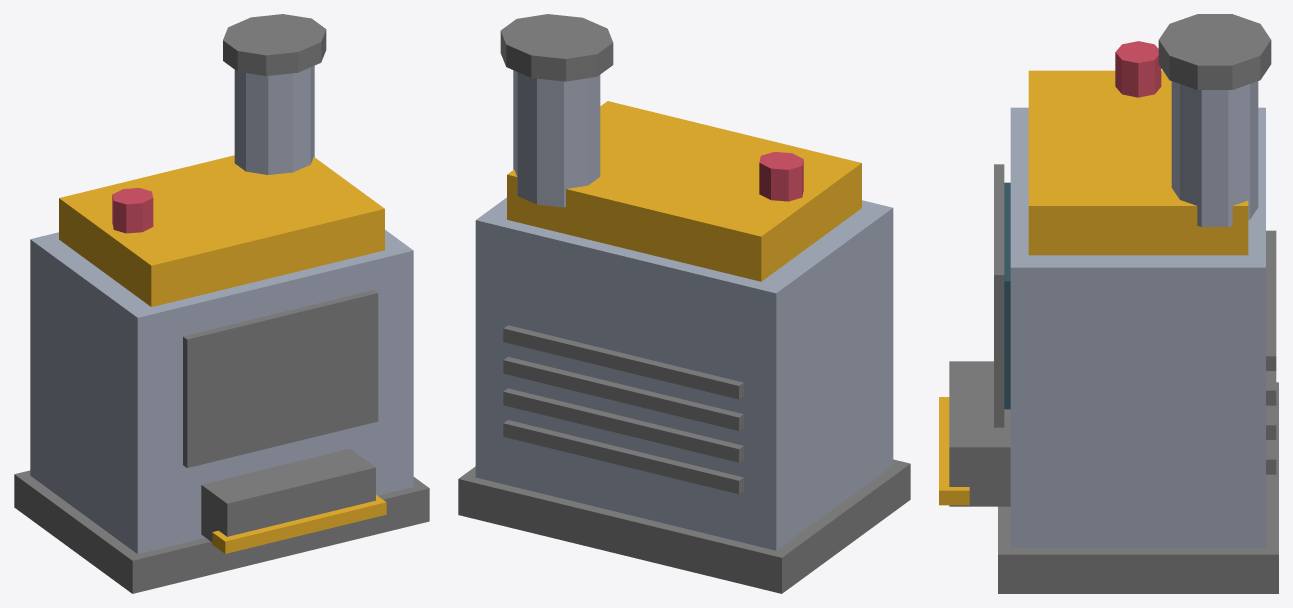
File: machine.glb
The picture shows the model from 3 angles, left to right: view 1: azimuth 30°, elevation 25°; view 2: azimuth 150°, elevation 25°; view 3: azimuth 270°, elevation 25°; orthographic projection. The views are drawn at different scales.
Parts seen in each view (by area): view 1: machine; view 2: machine; view 3: machine.
Boxes of the visible parts, x1=… form: machine: x1=14, y1=14, x2=429, y2=593; machine: x1=458, y1=14, x2=910, y2=593; machine: x1=939, y1=14, x2=1278, y2=593.
Size of the model in its own units: 1.5 by 2.1 by 1.25.
